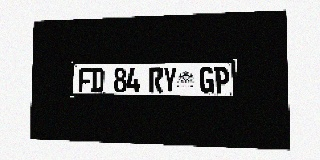4: (127, 67, 140, 93)
8: (114, 68, 127, 92)
D: (91, 68, 104, 92)
F: (79, 68, 91, 92)
G: (200, 67, 214, 93)
P: (214, 67, 229, 93)
R: (149, 67, 163, 93)
Y: (163, 67, 177, 93)
